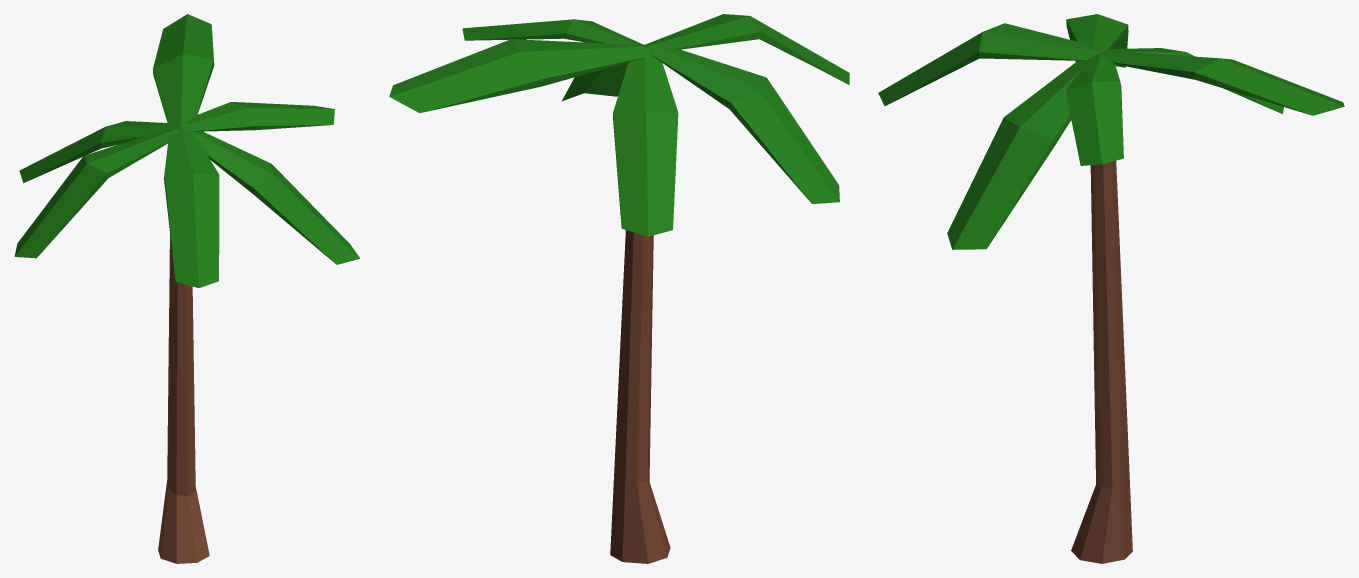
Rendered from Tree_39_summer_vc.fbx.
The picture shows the model from 3 angles, left to right: view 1: azimuth 30°, elevation 25°; view 2: azimuth 150°, elevation 25°; view 3: azimuth 270°, elevation 25°; orthographic projection. The views are drawn at different scales.
Visible parts, largest first — view 1: Tree_39_summer_vc; view 2: Tree_39_summer_vc; view 3: Tree_39_summer_vc.
Boxes of the visible parts, x1,y1,x2,y2 form: Tree_39_summer_vc: [14, 14, 359, 563]; Tree_39_summer_vc: [389, 14, 849, 563]; Tree_39_summer_vc: [878, 14, 1344, 563].
Bounding box in the file's own units: 3.96 × 5.31 × 4.31.
